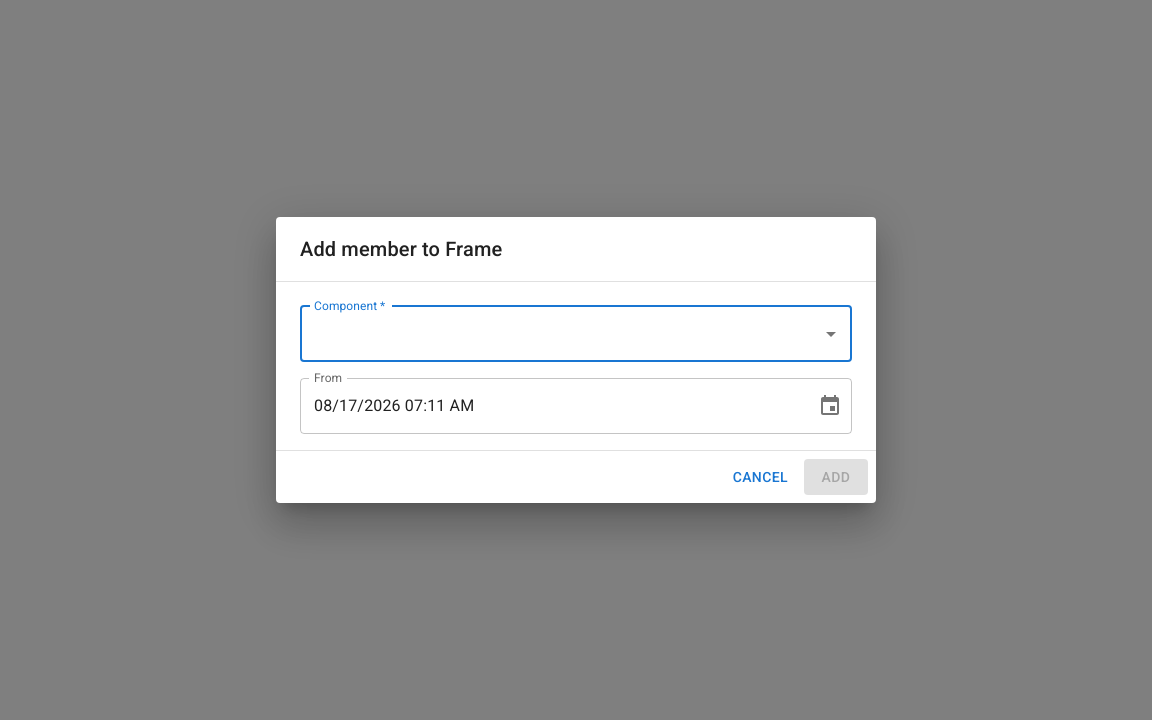
it: AddMemberDialog › lists a directly-mounted candidate with a Mounted pill, excludes retired
The width and height of the screenshot is (1152, 720).
Click the dropdown labelled "Component *" at {"x": 561, "y": 334}, box x1=309 y1=315 x2=813 y2=353
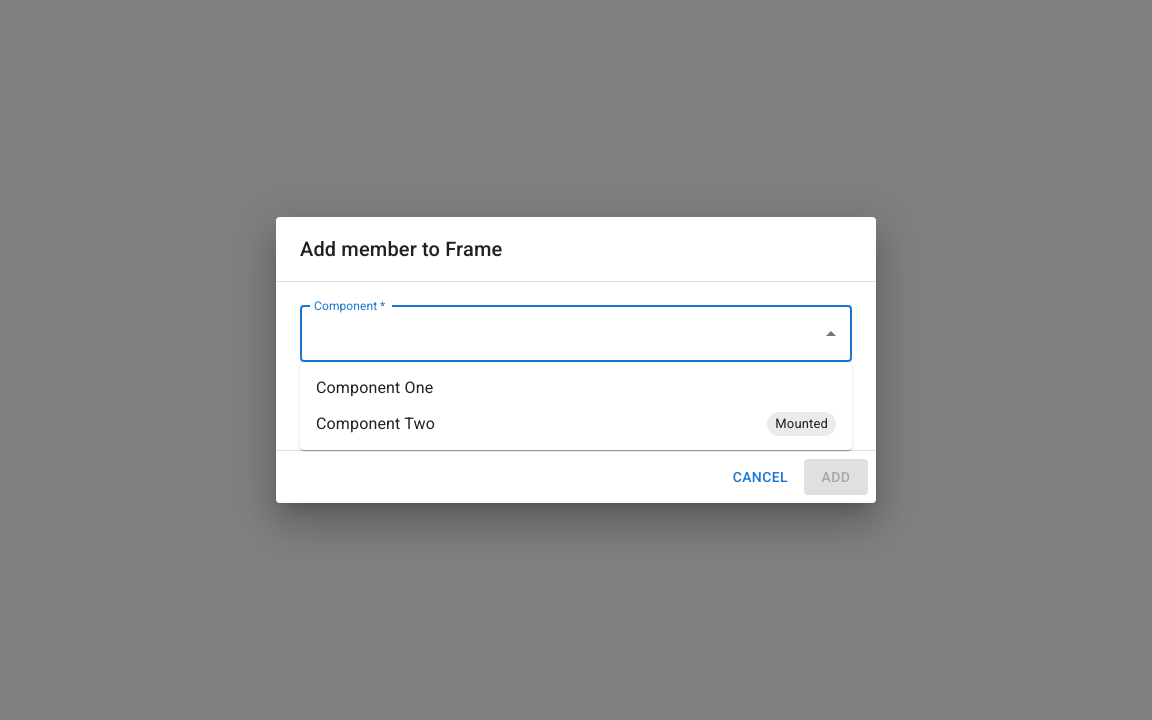
Expected: the option "Component Two Mounted" is shown, x1=300 y1=406 x2=852 y2=442
Expected: the option "Component One" is shown, x1=316 y1=378 x2=433 y2=397
